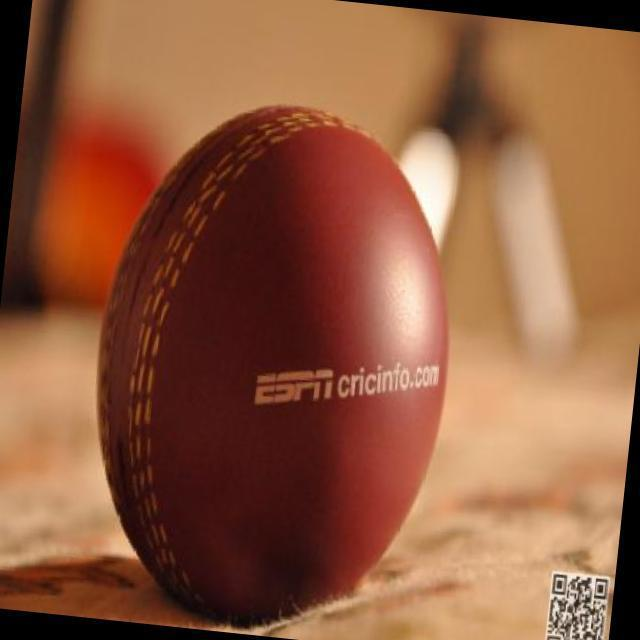-: (92, 91, 478, 598)
